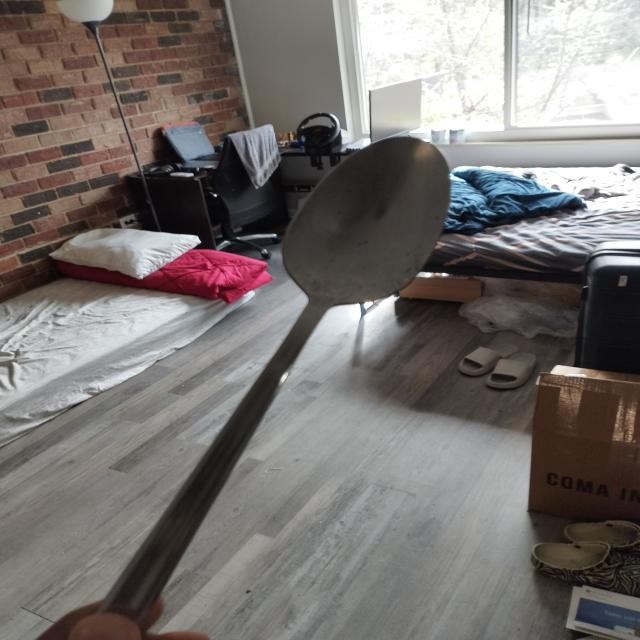Spoon: (77, 139, 476, 601)
